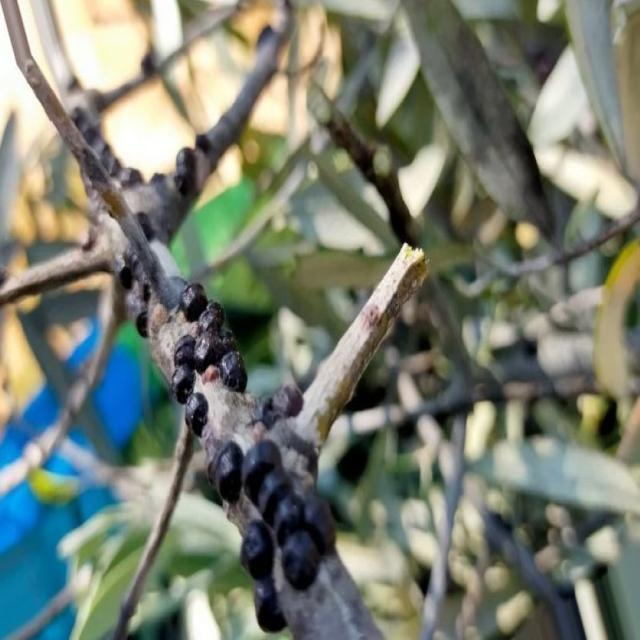BlackScale: (210, 438, 338, 630), (170, 284, 246, 404), (185, 392, 209, 436)
